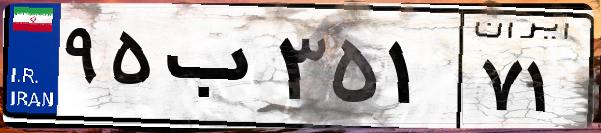1: (385, 28, 445, 110), (525, 38, 570, 115)
3: (270, 28, 330, 110)
5: (330, 28, 385, 110), (110, 28, 158, 98)
7: (475, 38, 525, 113)
9: (57, 26, 110, 100)
ب: (158, 20, 270, 120)
